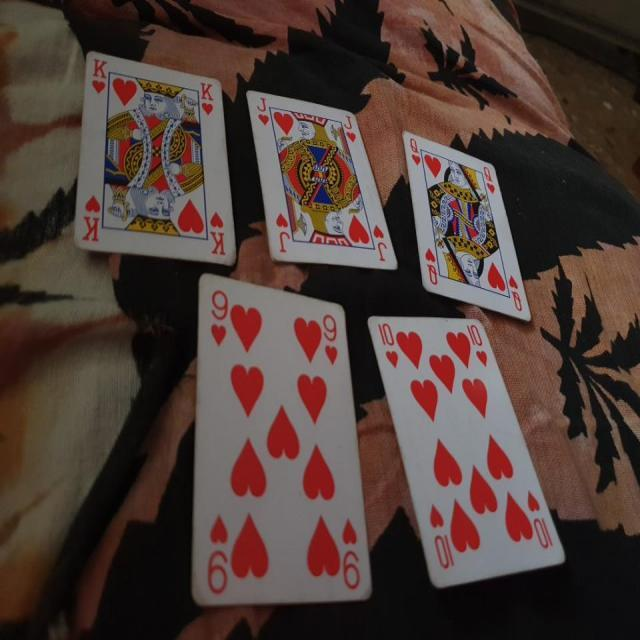10 of hearts: (360, 306, 566, 588)
9 of hearts: (186, 269, 375, 602)
jack of hearts: (240, 82, 402, 288)
king of hearts: (73, 48, 243, 268)
queen of hearts: (393, 123, 534, 324)
